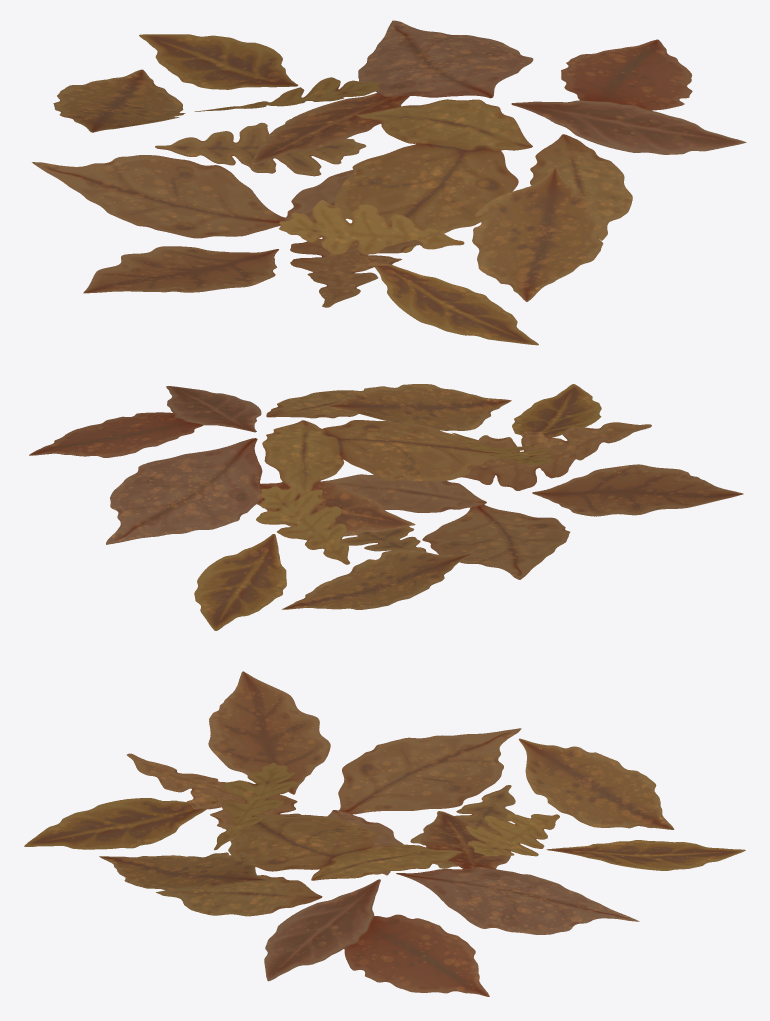
File: MSH_fwOF_Leaves_02.fbx
3 views of the same model, one above another, from view 1: azimuth 30°, elevation 25°; view 2: azimuth 150°, elevation 25°; view 3: azimuth 270°, elevation 25° (orthographic). The views are drawn at different scales.
Parts seen in each view (by area): view 1: MSH_fwOF_Leaves_02; view 2: MSH_fwOF_Leaves_02; view 3: MSH_fwOF_Leaves_02.
Boxes of the visible parts, x1,y1,x2,y2 form: MSH_fwOF_Leaves_02: (32, 20, 746, 345); MSH_fwOF_Leaves_02: (29, 384, 743, 630); MSH_fwOF_Leaves_02: (24, 671, 745, 996).
Size of the model in its own units: 0.58 by 0.0382 by 0.5696.
